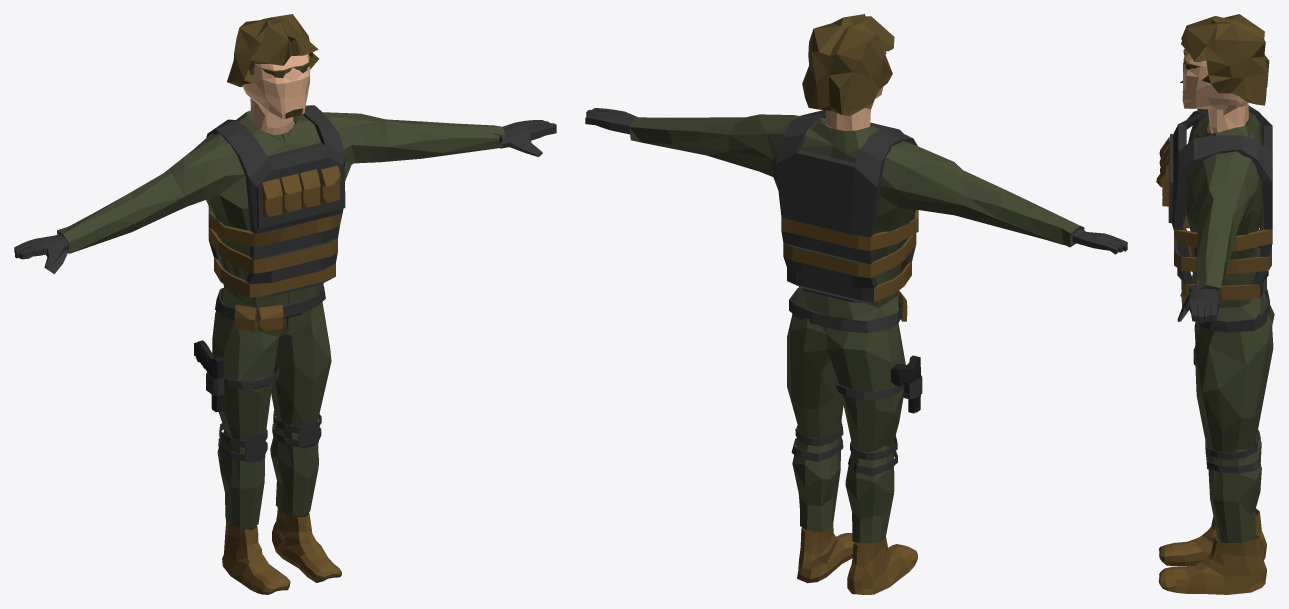
The model's file is Soilder Character.fbx.
The picture shows the model from 3 angles, left to right: view 1: azimuth 30°, elevation 25°; view 2: azimuth 150°, elevation 25°; view 3: azimuth 270°, elevation 25°; orthographic projection.
Visible parts, largest first — view 1: Pants, Shirt, Vest, Cube, Hair, Belt, Glock; view 2: Pants, Shirt, Vest, Cube, Hair, Belt, Glock; view 3: Pants, Shirt, Cube, Vest, Hair, Belt.
Boxes of the visible parts, x1=… form: Pants: x1=212, y1=297, x2=331, y2=528; Shirt: x1=57, y1=110, x2=505, y2=310; Vest: x1=206, y1=105, x2=345, y2=297; Cube: x1=14, y1=54, x2=556, y2=594; Hair: x1=227, y1=14, x2=319, y2=87; Belt: x1=215, y1=285, x2=325, y2=331; Glock: x1=194, y1=340, x2=224, y2=412; Pants: x1=787, y1=298, x2=905, y2=543; Shirt: x1=629, y1=114, x2=1084, y2=320; Vest: x1=775, y1=110, x2=918, y2=302; Cube: x1=585, y1=51, x2=1127, y2=594; Hair: x1=802, y1=14, x2=894, y2=116; Belt: x1=789, y1=288, x2=907, y2=333; Glock: x1=891, y1=355, x2=922, y2=413; Pants: x1=1193, y1=293, x2=1274, y2=543; Shirt: x1=1184, y1=109, x2=1263, y2=321; Cube: x1=1158, y1=48, x2=1266, y2=594; Vest: x1=1156, y1=105, x2=1272, y2=300; Hair: x1=1181, y1=14, x2=1269, y2=105; Belt: x1=1180, y1=275, x2=1269, y2=332.
Size of the model in its own units: 220 by 216 by 41.6.
